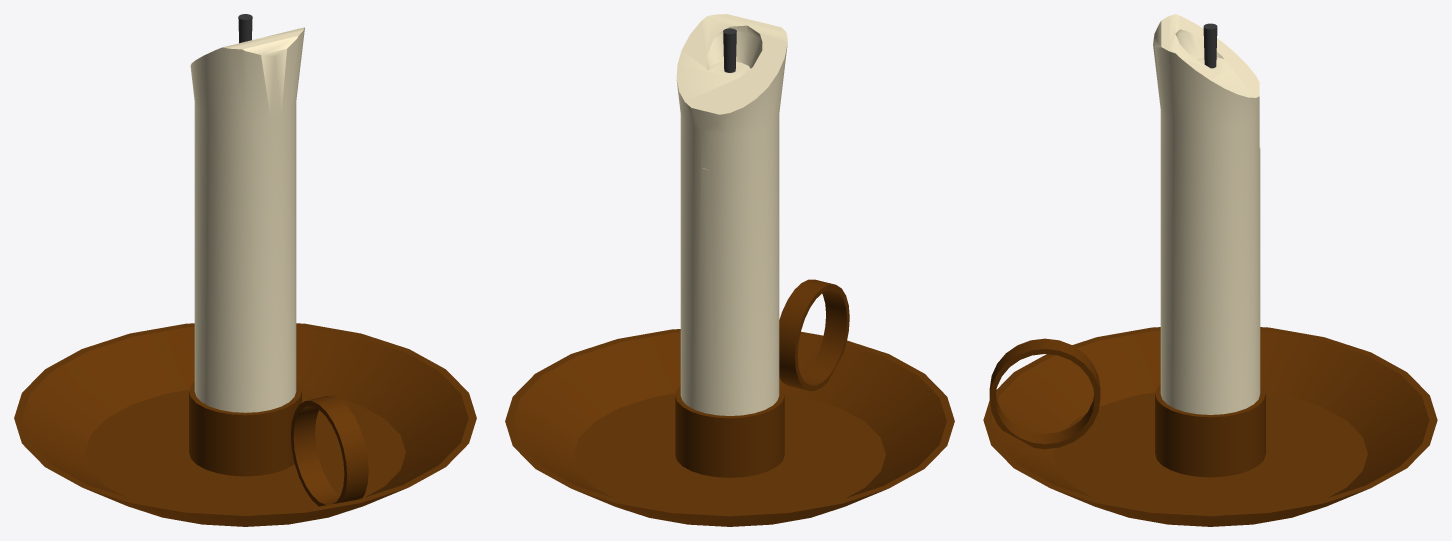
Rendered from Candle.fbx.
The picture shows the model from 3 angles, left to right: view 1: azimuth 30°, elevation 25°; view 2: azimuth 150°, elevation 25°; view 3: azimuth 270°, elevation 25°; orthographic projection. The views are drawn at different scales.
Visible parts, largest first — view 1: Group1, OuterShell, Group2; view 2: Group1, OuterShell, Group2; view 3: Group1, OuterShell, Group2.
Boxes of the visible parts, bbox=[...] form: Group1: bbox=[14, 323, 476, 526]; OuterShell: bbox=[190, 14, 304, 412]; Group2: bbox=[291, 395, 368, 506]; Group1: bbox=[505, 329, 954, 526]; OuterShell: bbox=[676, 14, 787, 415]; Group2: bbox=[779, 279, 849, 390]; Group1: bbox=[983, 327, 1437, 526]; OuterShell: bbox=[1153, 14, 1260, 414]; Group2: bbox=[989, 338, 1100, 449].
Size of the model in its own units: 0.2085 by 0.2185 by 0.2085.
